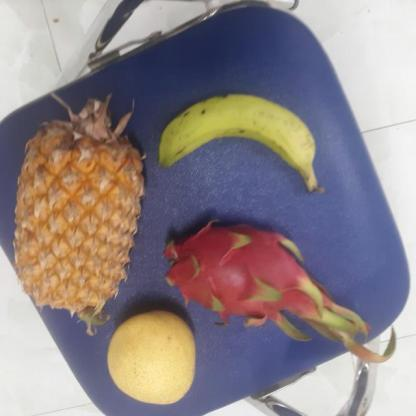banana: (163, 94, 330, 192)
pear: (105, 312, 199, 407)
pineapple: (15, 116, 146, 318)
pitaya: (164, 219, 331, 327)
